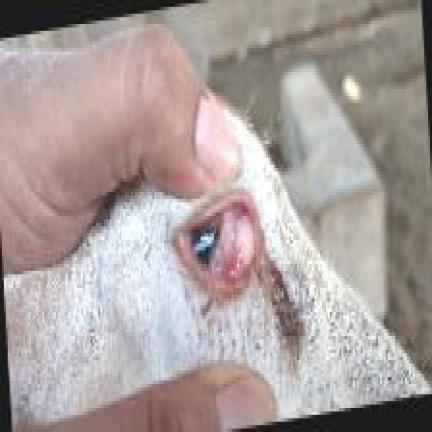goat-eye-anemia-22222222: (230, 213, 260, 281)
